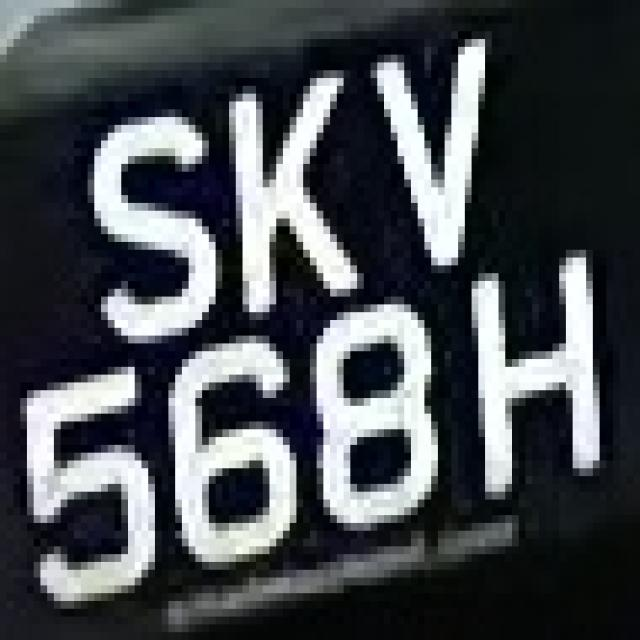5: (7, 352, 168, 624)
6: (155, 320, 317, 578)
8: (296, 297, 444, 554)
H: (465, 265, 613, 515)
K: (195, 54, 378, 336)
S: (81, 86, 209, 343)
V: (364, 23, 505, 296)
